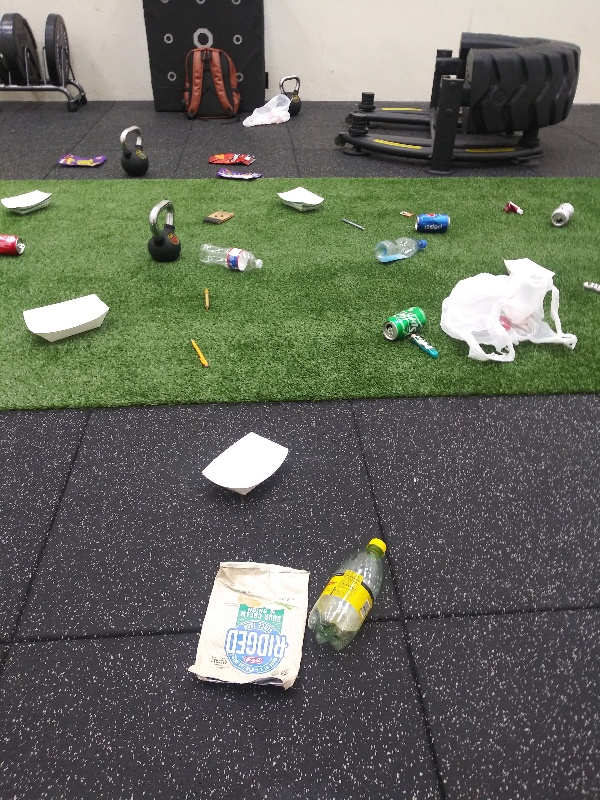bag: (183, 555, 310, 698), (53, 150, 111, 168), (204, 150, 259, 166), (211, 166, 264, 182)
bottle: (307, 536, 392, 658), (194, 240, 267, 278), (373, 235, 430, 266)
can: (377, 303, 429, 346), (411, 212, 454, 236), (547, 201, 575, 228), (1, 232, 29, 257)
plate: (198, 429, 293, 500), (20, 291, 109, 346), (1, 189, 54, 220), (271, 185, 329, 213), (501, 256, 559, 282)
